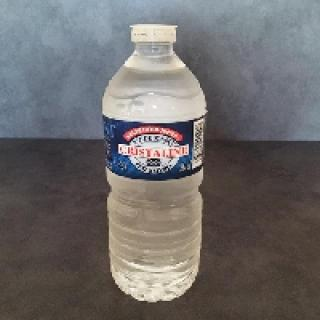Plastic-bottle: (101, 21, 211, 307)
